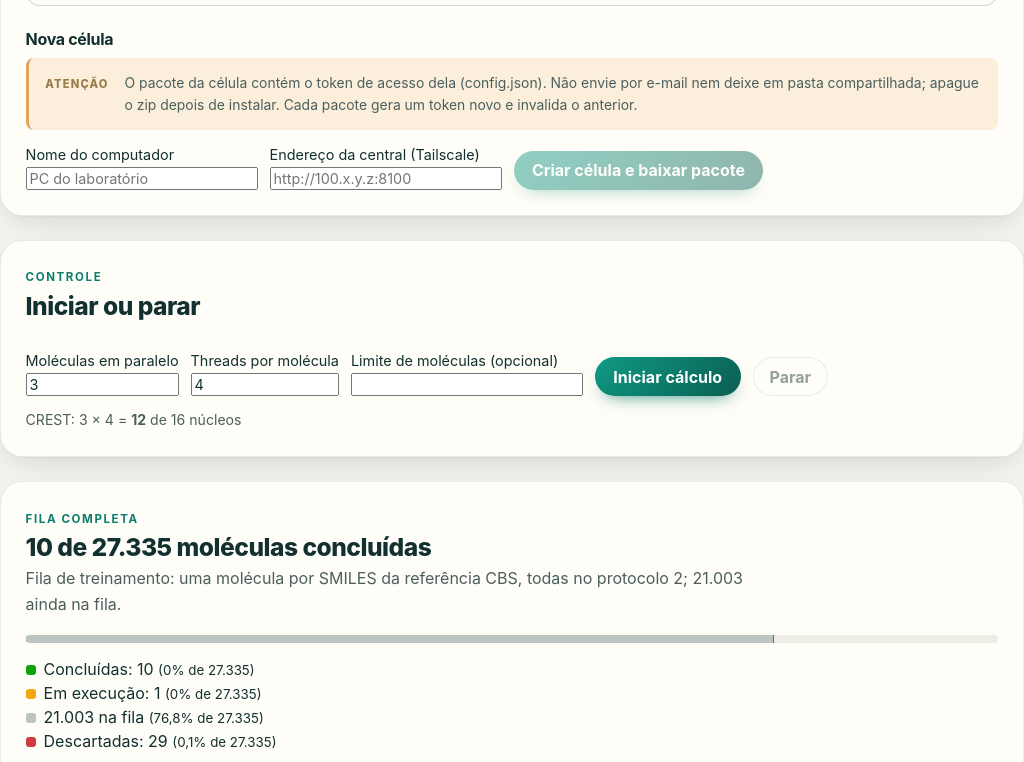
Test: inicia com workers, threads e limite e mostra o estado do job
(page scrolled)
expect the picture named "Andamento do treinamento" is shown: met, box left=26, top=635, right=998, bottom=643
Replace the text in the number field labelled "Moléculas em paralelo" with "2" at point(102, 385), box left=26, top=373, right=179, bottom=396
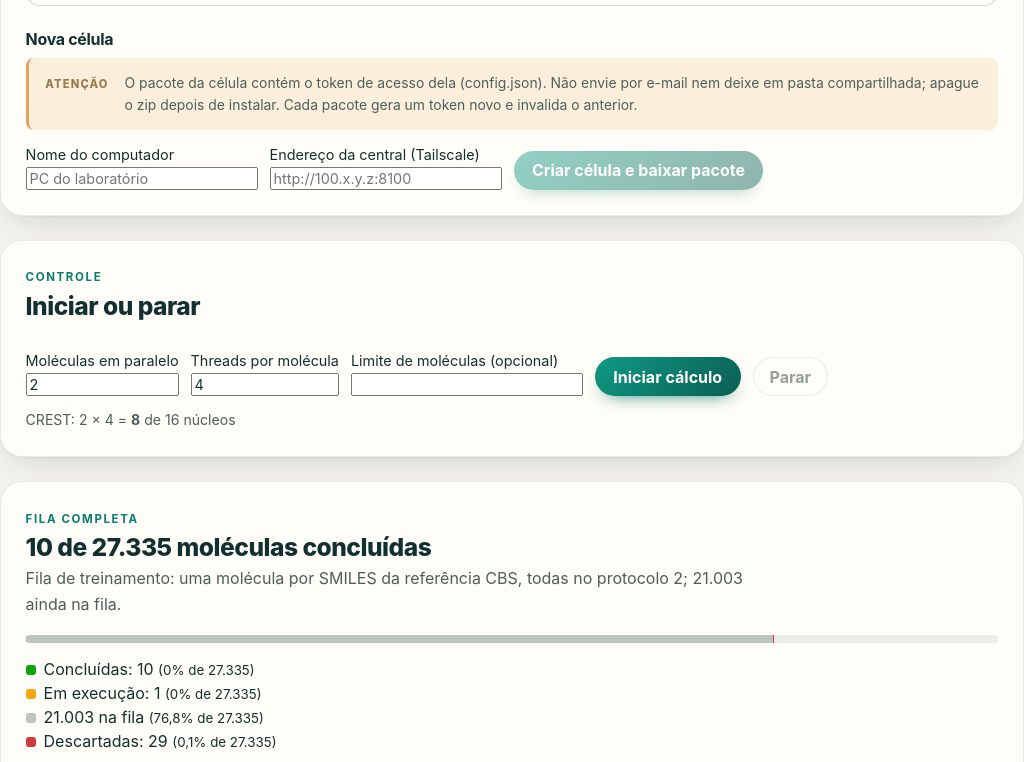
Replace the text in the number field labelled "Threads por molécula" with "6" at point(265, 385), box left=191, top=373, right=339, bottom=396
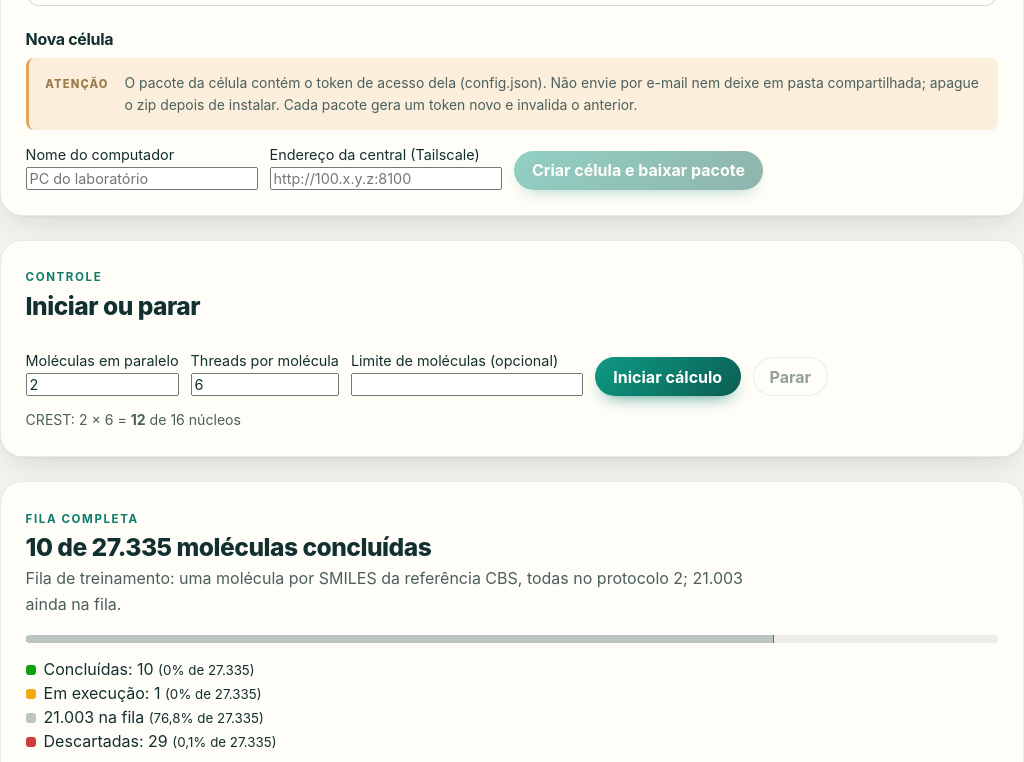
expect the text "CREST: 2 × 6 = 12 de 16 núcleos" is shown: met, box left=26, top=411, right=241, bottom=428
Type "5" into the number field labelled "Limite de moléculas (opcional)".
click(467, 385); type("5")  # box left=351, top=373, right=583, bottom=396
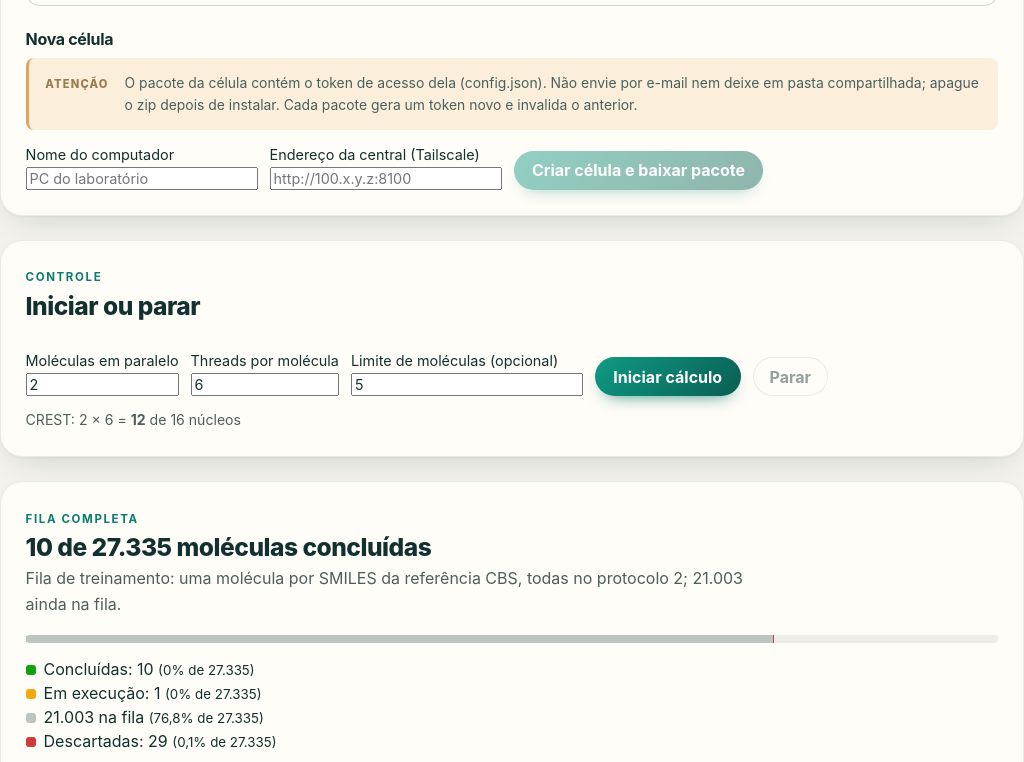
Click the button "Iniciar cálculo".
click(668, 377)  # box left=595, top=357, right=740, bottom=396
(page scrolled)
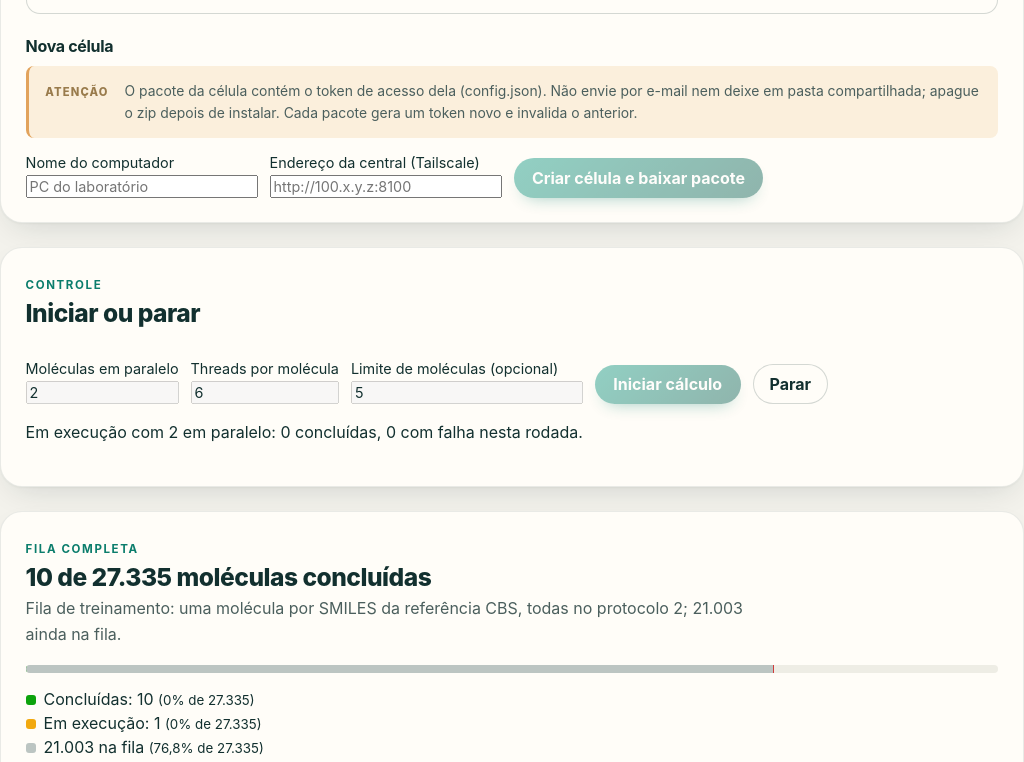
expect the text "Em execução com 2 em paralelo: 0 concluídas, 0 com falha nesta rodada." is shown: met, box left=26, top=422, right=583, bottom=442
expect the button "Parar" is enabled: met, box left=753, top=364, right=828, bottom=404
expect the button "Iniciar cálculo" is disabled: met, box left=595, top=365, right=740, bottom=404
